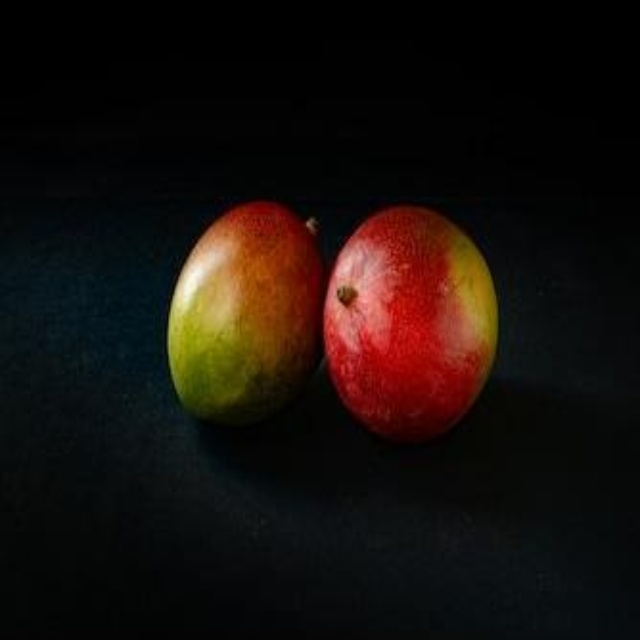mango: (330, 204, 499, 435), (164, 199, 317, 425)
